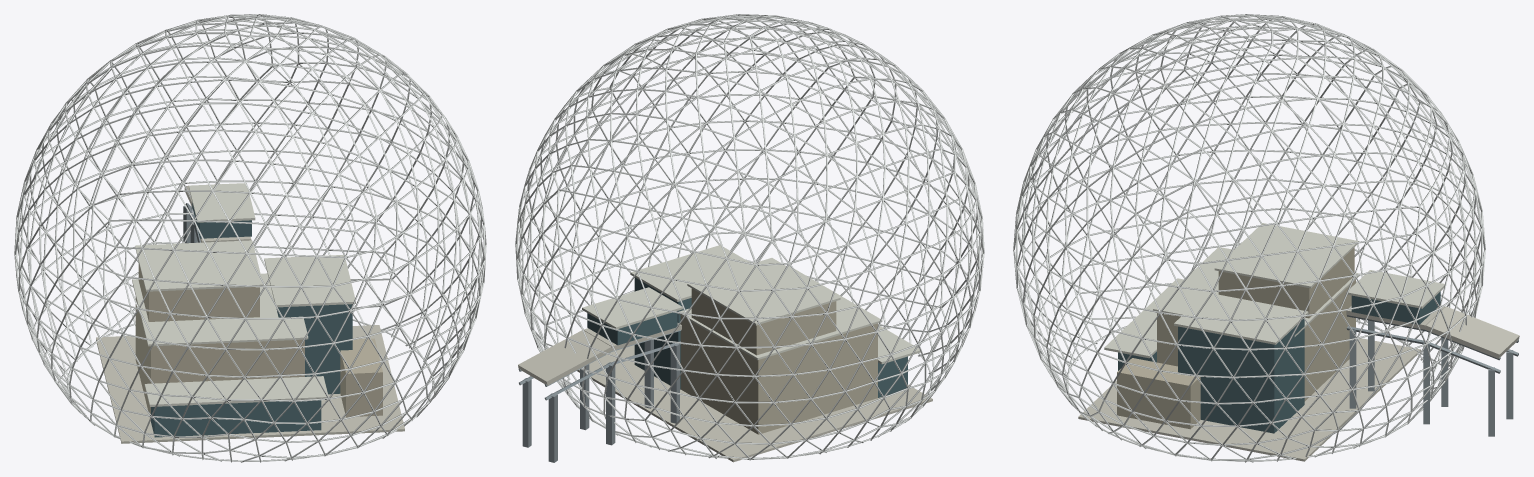
The model's file is biosphere-montreal-far.glb.
The picture shows the model from 3 angles, left to right: view 1: azimuth 30°, elevation 25°; view 2: azimuth 150°, elevation 25°; view 3: azimuth 270°, elevation 25°; orthographic projection.
Visible parts, largest first — view 1: biosphere-montreal-0-lattice, biosphere-montreal-0-roof, biosphere-montreal-0-museum, biosphere-montreal-0-glass, biosphere-montreal-0-concrete; view 2: biosphere-montreal-0-lattice, biosphere-montreal-0-museum, biosphere-montreal-0-roof, biosphere-montreal-0-concrete, biosphere-montreal-0-rail, biosphere-montreal-0-glass; view 3: biosphere-montreal-0-lattice, biosphere-montreal-0-roof, biosphere-montreal-0-museum, biosphere-montreal-0-concrete, biosphere-montreal-0-glass, biosphere-montreal-0-rail.
Part boxes in pixels (x1,y1,x2,y2): biosphere-montreal-0-lattice: (14, 14, 486, 462); biosphere-montreal-0-roof: (132, 183, 355, 406); biosphere-montreal-0-museum: (135, 262, 382, 420); biosphere-montreal-0-glass: (151, 203, 352, 437); biosphere-montreal-0-concrete: (96, 185, 404, 443); biosphere-montreal-0-lattice: (515, 14, 984, 460); biosphere-montreal-0-museum: (680, 288, 877, 434); biosphere-montreal-0-roof: (582, 245, 920, 364); biosphere-montreal-0-concrete: (518, 323, 932, 462); biosphere-montreal-0-rail: (518, 330, 681, 462); biosphere-montreal-0-glass: (587, 277, 907, 397); biosphere-montreal-0-lattice: (1013, 14, 1485, 462); biosphere-montreal-0-roof: (1104, 223, 1444, 358); biosphere-montreal-0-museum: (1117, 247, 1355, 429); biosphere-montreal-0-concrete: (1078, 305, 1519, 461); biosphere-montreal-0-glass: (1118, 291, 1440, 433); biosphere-montreal-0-rail: (1346, 315, 1518, 436).
Size of the model in its own units: 76.32 by 62.32 by 81.77.
